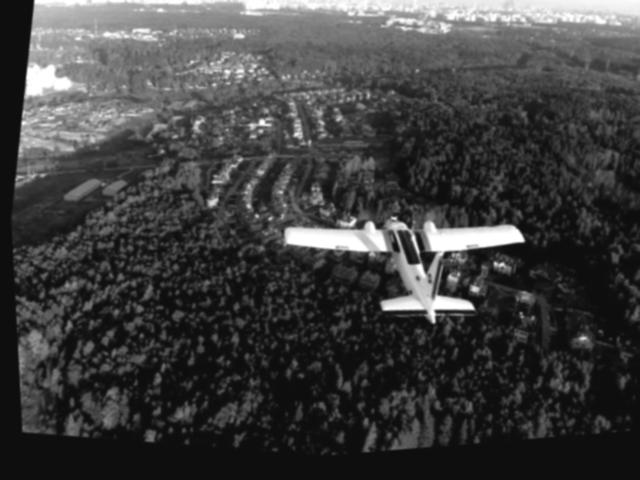hedef: (259, 185, 530, 348)
